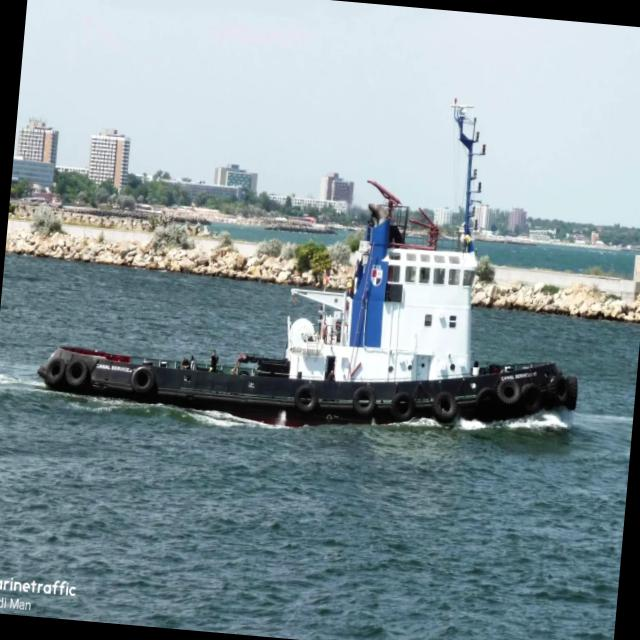Tug: (38, 100, 577, 423)
